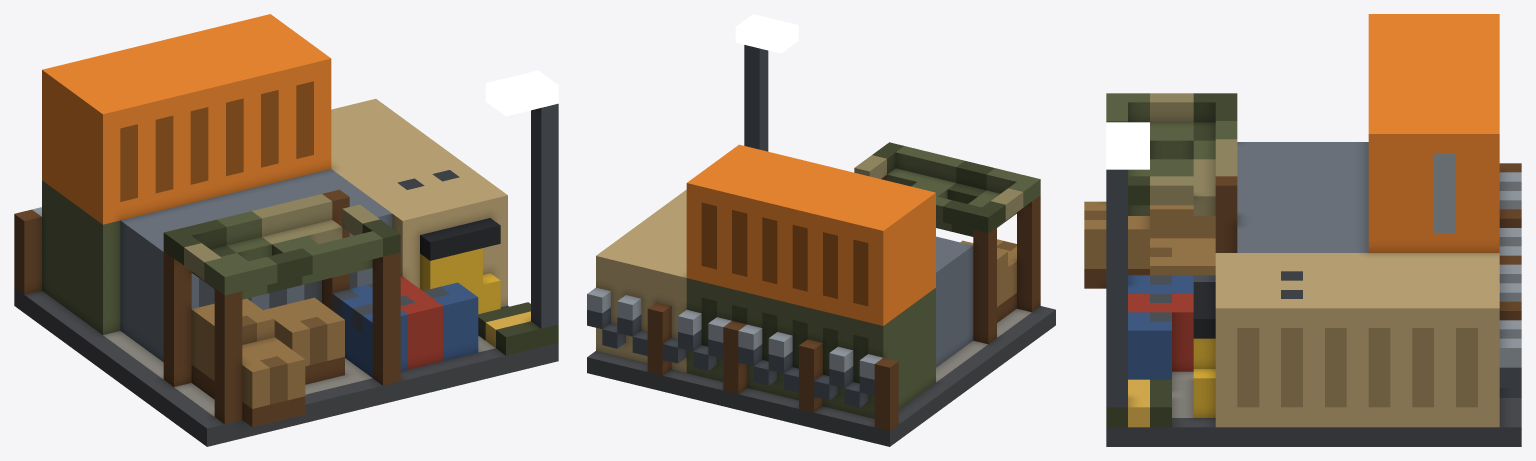
Rendered from cm_depot_5.glb.
3 views of the same model, side by side, from view 1: azimuth 30°, elevation 25°; view 2: azimuth 150°, elevation 25°; view 3: azimuth 270°, elevation 25° (orthographic). The views are drawn at different scales.
Visible parts, largest first — view 1: cm_depot_5_body; view 2: cm_depot_5_body; view 3: cm_depot_5_body.
Boxes of the visible parts, x1,y1,x2,y2 form: cm_depot_5_body: (14, 14, 558, 446); cm_depot_5_body: (587, 14, 1055, 446); cm_depot_5_body: (1084, 14, 1521, 446).
Size of the model in its own units: 1.25 by 0.9375 by 1.25.
1 material, 1 textured.
